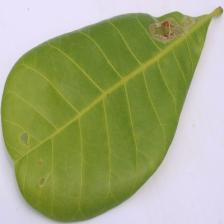leaf miner: (138, 13, 200, 52)
